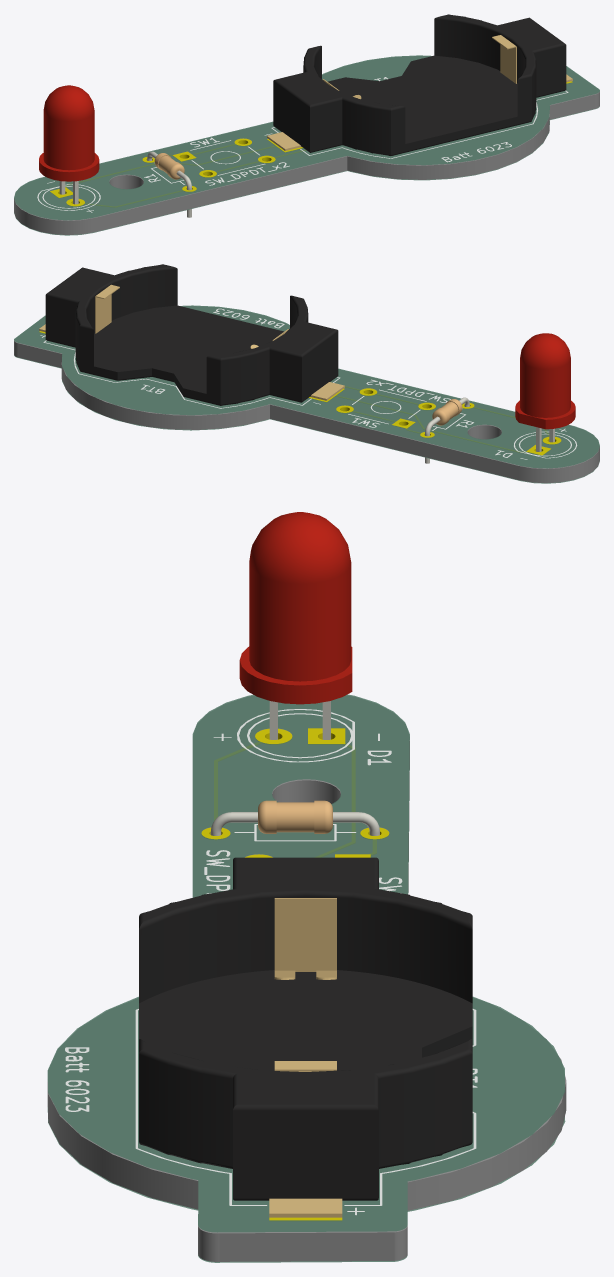
The model's file is LED_BOARD.glb.
3 views of the same model, one above another, from view 1: azimuth 30°, elevation 25°; view 2: azimuth 150°, elevation 25°; view 3: azimuth 270°, elevation 25° (orthographic). The views are drawn at different scales.
Parts seen in each view (by area): view 1: BT1, =>[0:1:1:8], =>[0:1:1:7], D1, =>[0:1:1:6], =>[0:1:1:5], R1; view 2: BT1, =>[0:1:1:8], =>[0:1:1:7], D1, =>[0:1:1:6], =>[0:1:1:5], R1; view 3: BT1, =>[0:1:1:8], =>[0:1:1:7], D1, =>[0:1:1:6], R1, =>[0:1:1:5].
Boxes of the visible parts, x1,y1,x2,y2 form: BT1: [267, 14, 572, 155]; =>[0:1:1:8]: [14, 56, 599, 234]; =>[0:1:1:7]: [14, 55, 599, 235]; D1: [39, 85, 99, 204]; =>[0:1:1:6]: [37, 77, 568, 212]; =>[0:1:1:5]: [50, 81, 572, 206]; R1: [147, 151, 191, 217]; BT1: [39, 264, 344, 405]; =>[0:1:1:8]: [14, 306, 599, 483]; =>[0:1:1:7]: [14, 305, 599, 483]; D1: [515, 333, 575, 451]; =>[0:1:1:6]: [40, 308, 577, 459]; =>[0:1:1:5]: [39, 331, 561, 455]; R1: [425, 397, 469, 463]; BT1: [139, 857, 472, 1217]; =>[0:1:1:8]: [47, 696, 566, 1261]; =>[0:1:1:7]: [47, 694, 565, 1262]; D1: [239, 512, 352, 739]; =>[0:1:1:6]: [65, 709, 477, 1215]; R1: [210, 800, 379, 835]; =>[0:1:1:5]: [201, 728, 389, 1220].
Bounding box in the file's own units: 0.0616 × 0.0146 × 0.0249.
